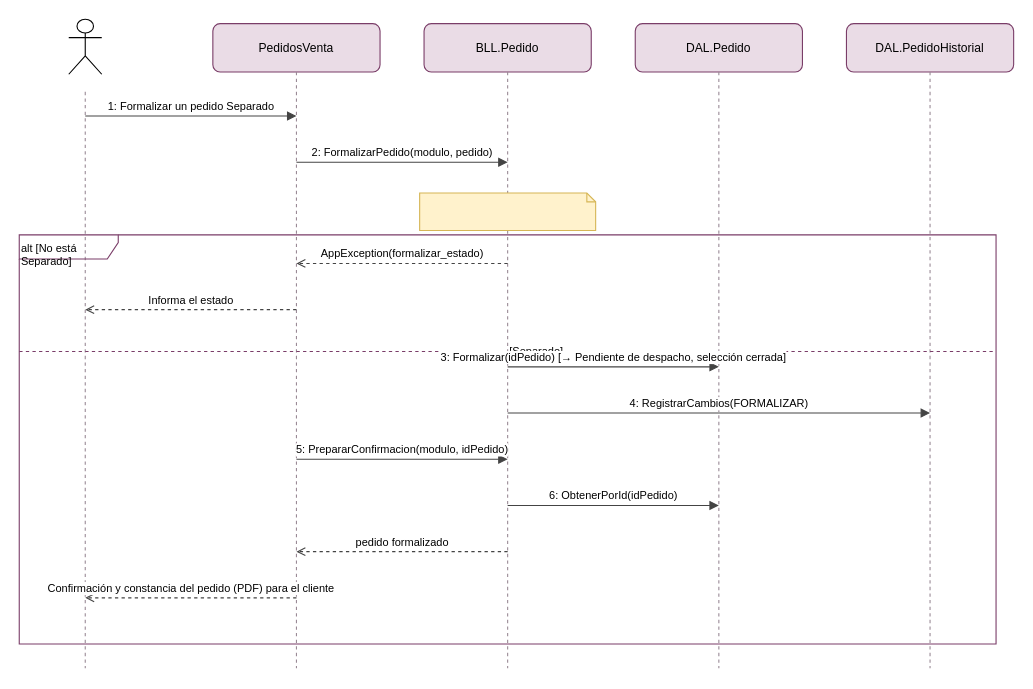
Image size: 1033x689. Some labels were removed from this diagram. Here are the shapes that lost their labels. From the top down, the box of each, then its label:
(68, 18, 102, 74): Vendedor
(419, 192, 596, 230): Exigir(PedidosVentaEditar) · solo Separado
